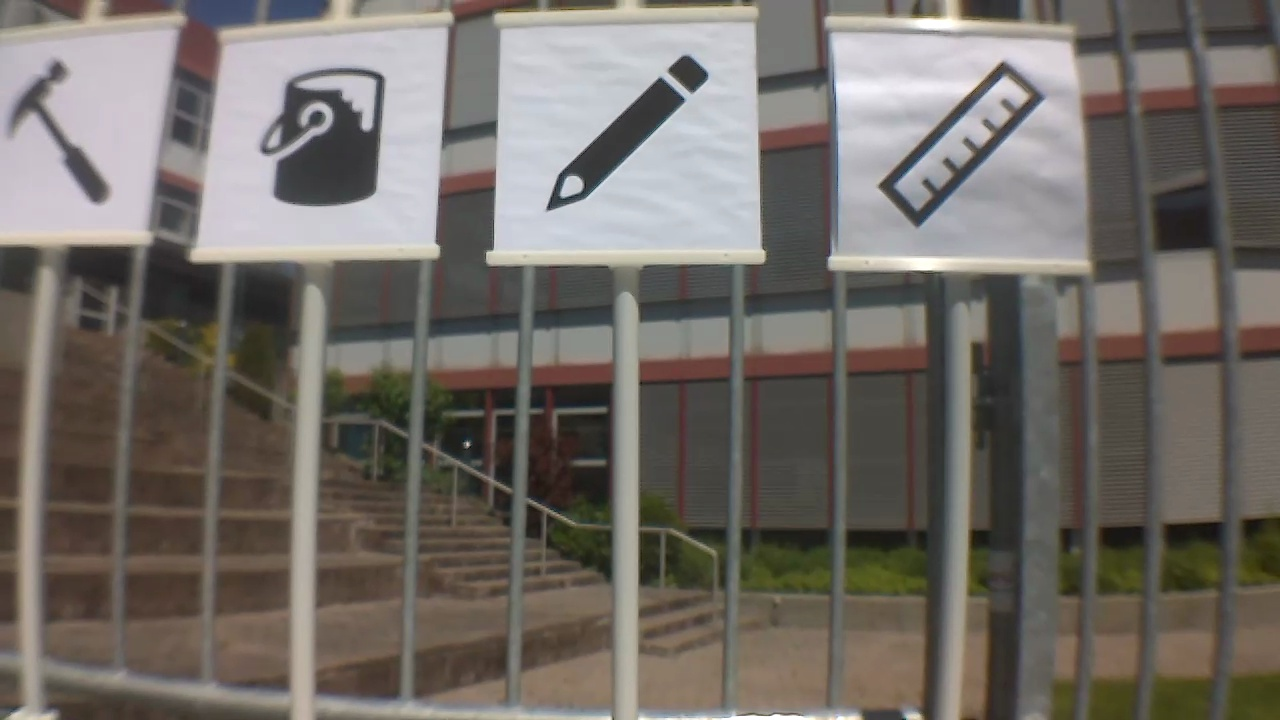bucket: (259, 60, 390, 211)
hammer: (0, 42, 153, 205)
pencil: (544, 45, 715, 213)
ruler: (879, 57, 1053, 230)
